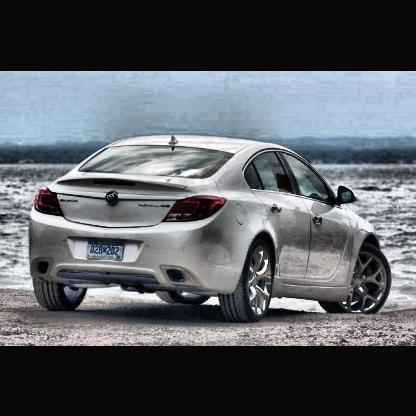Buick Regal GS 2012: (27, 134, 395, 325)
